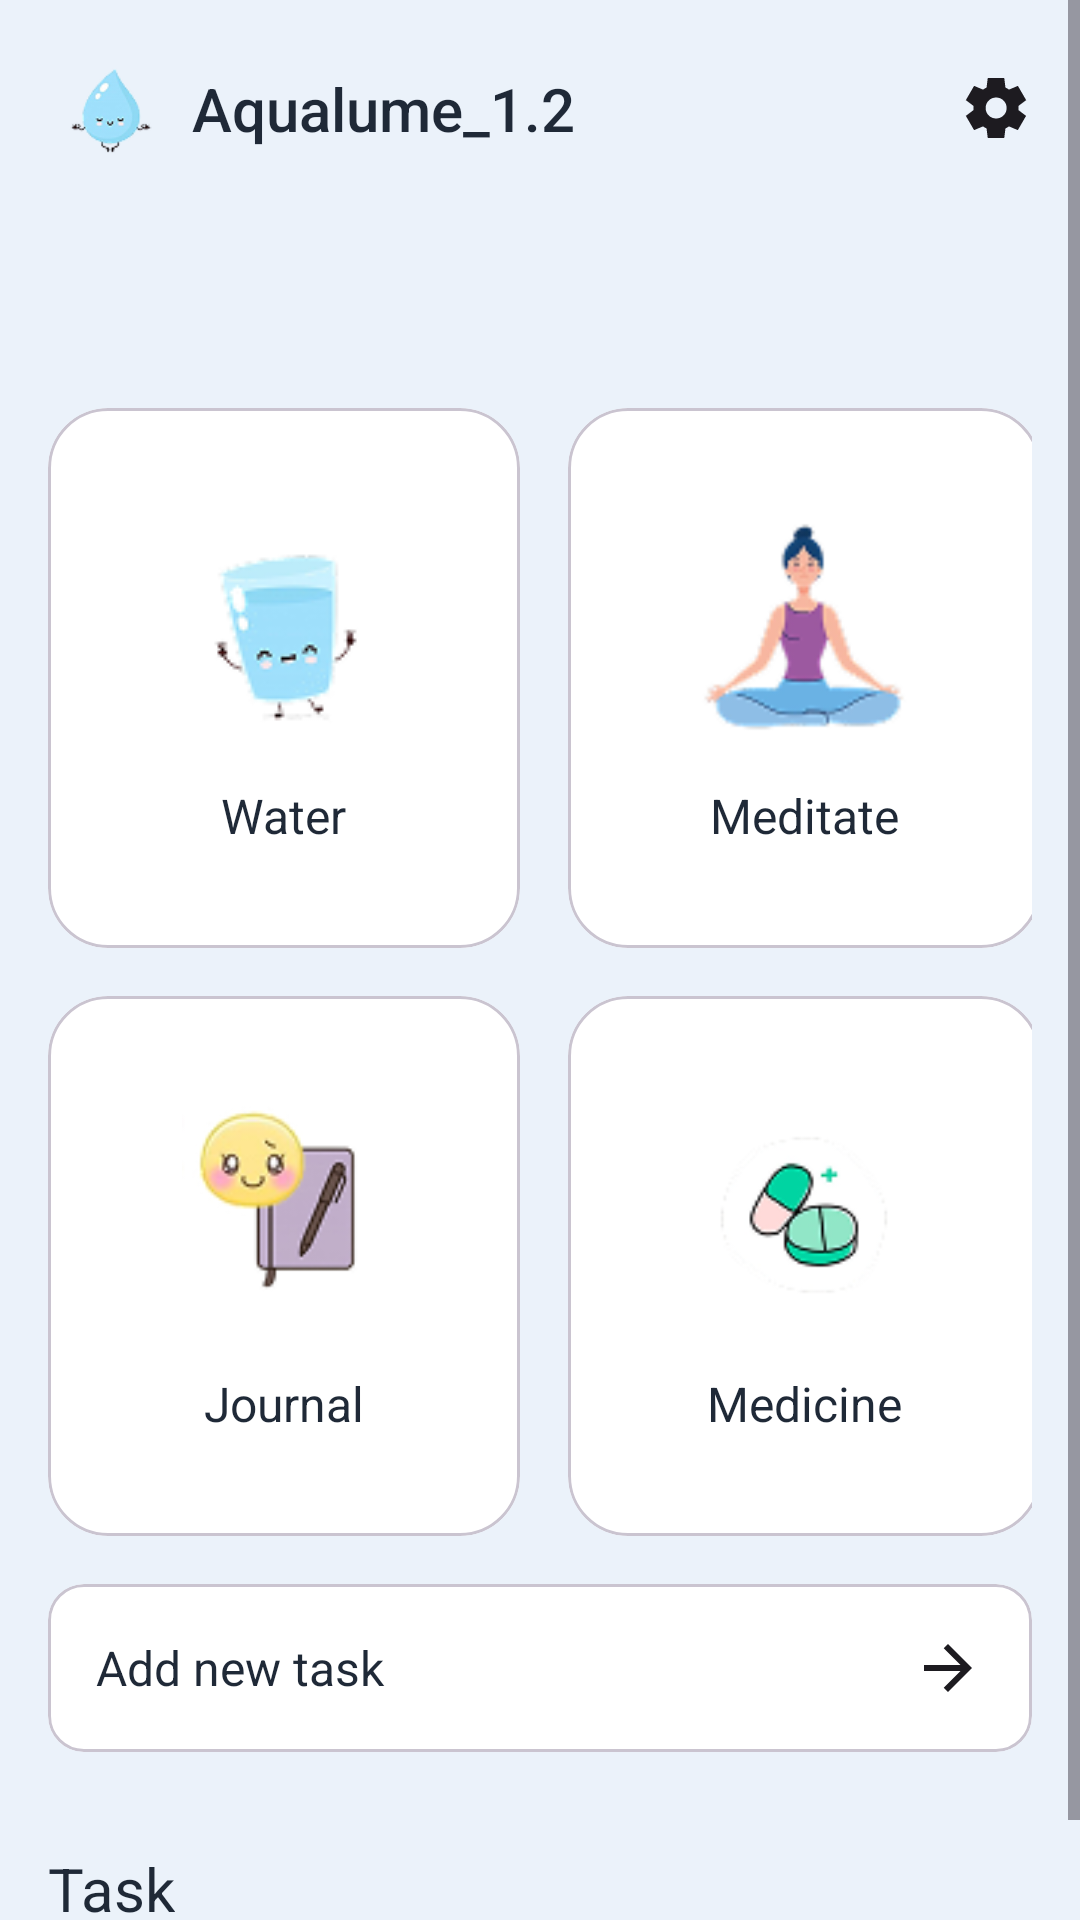

Screen size 1080w x 1920h. Icon name, then its center in pixels as point (x, y):
arrow right: point (948, 1668)
Settings: point (996, 108)
